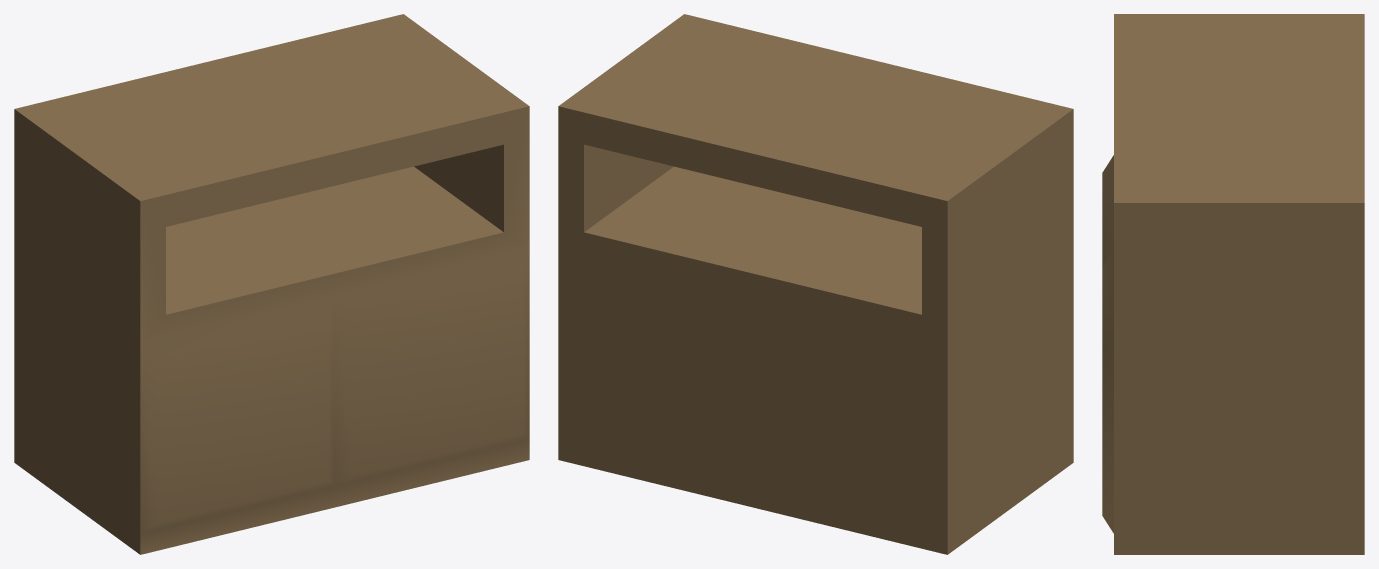
The model's file is TV Stand.fbx.
The picture shows the model from 3 angles, left to right: view 1: azimuth 30°, elevation 25°; view 2: azimuth 150°, elevation 25°; view 3: azimuth 270°, elevation 25°; orthographic projection.
Visible parts, largest first — view 1: pCube3; view 2: pCube3; view 3: pCube3.
Part boxes in pixels (left/top/right/bottom): pCube3: left=14, top=14, right=529, bottom=554; pCube3: left=558, top=14, right=1073, bottom=554; pCube3: left=1102, top=14, right=1364, bottom=554.
Bounding box in the file's own units: 6.59 × 5.73 × 3.87.
